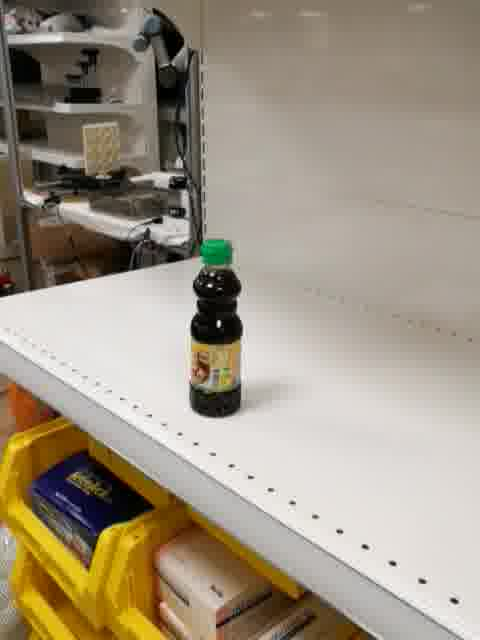cookingoil: (188, 237, 244, 420)
